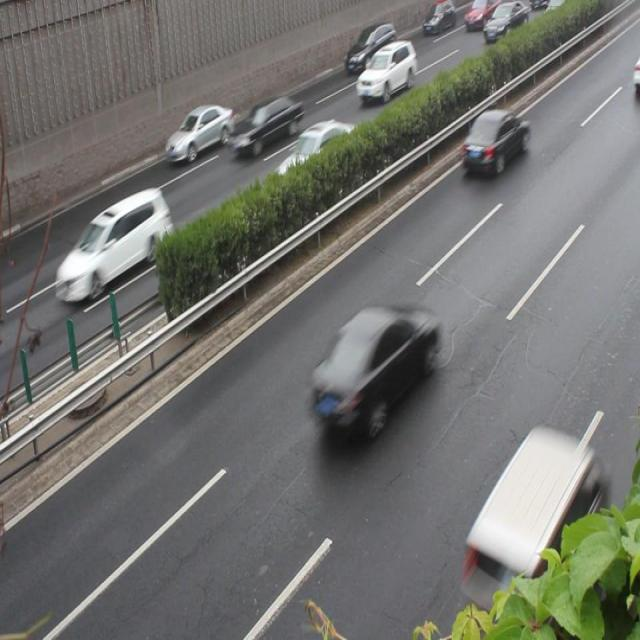car: (461, 424, 593, 592), (306, 306, 434, 437), (57, 189, 172, 303), (270, 120, 355, 196), (226, 95, 303, 160), (461, 109, 530, 177), (166, 105, 233, 162)
